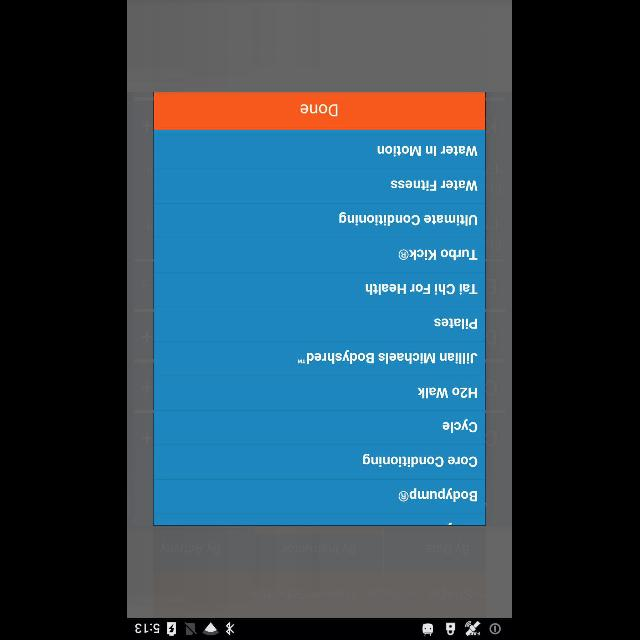panel: (154, 92, 486, 526)
text: (298, 350, 478, 364), (340, 212, 478, 225), (364, 454, 478, 466), (367, 284, 479, 294), (400, 488, 478, 502), (376, 146, 478, 156), (392, 181, 478, 191), (399, 250, 478, 260), (418, 388, 478, 398), (436, 318, 478, 329), (444, 420, 478, 432)
textbutton: (154, 92, 486, 130)
uppertaskbar: (128, 617, 512, 639)
